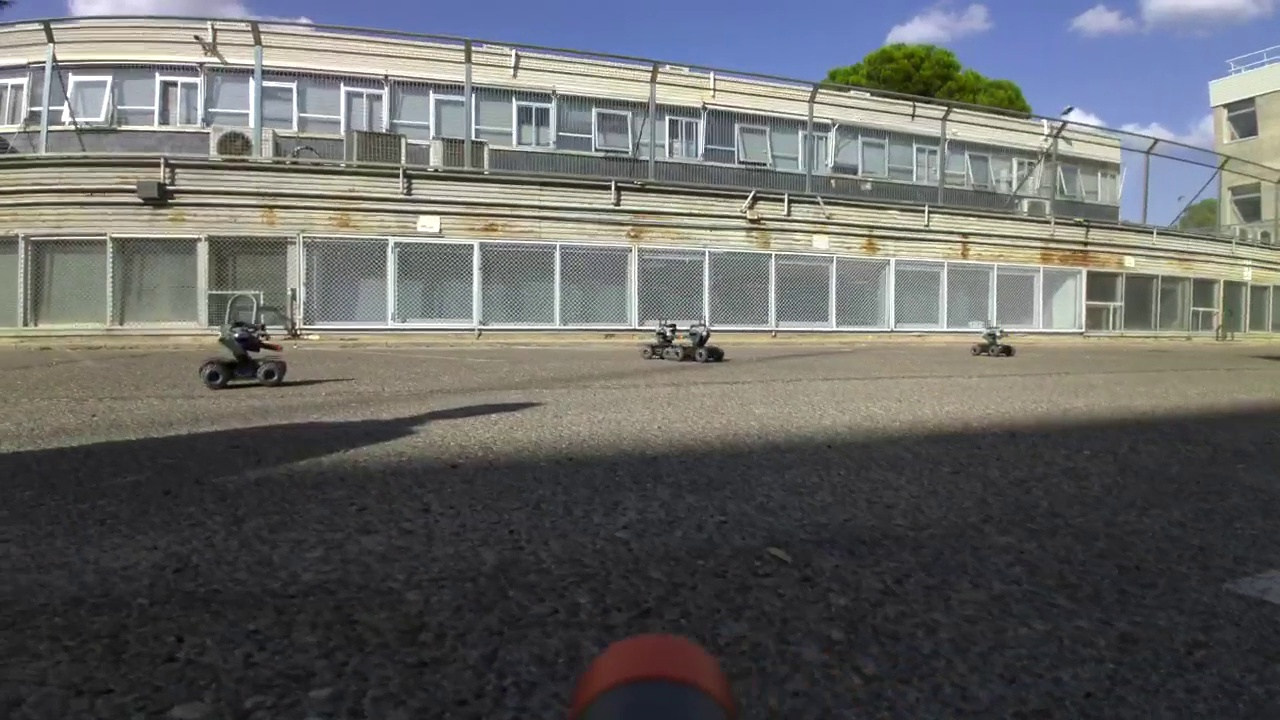robot: (196, 312, 288, 389), (677, 319, 725, 364), (970, 321, 1016, 357), (642, 318, 683, 358)
